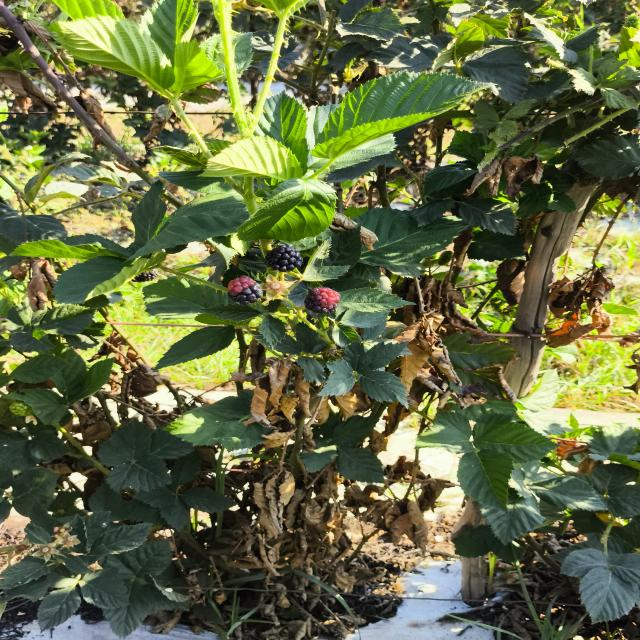maduro: (265, 244, 302, 272)
marron: (227, 276, 262, 305), (304, 287, 340, 313)
